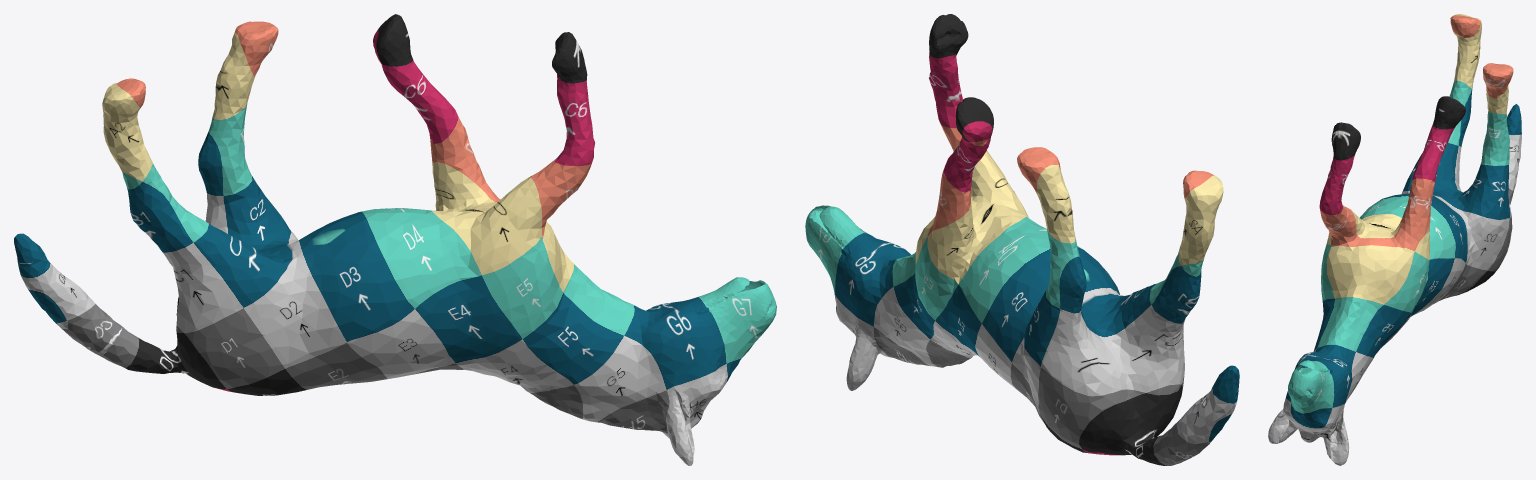
Rendered from horse_08-horse_01.obj.
3 renders of one model, left to right at view 1: azimuth 30°, elevation 25°; view 2: azimuth 150°, elevation 25°; view 3: azimuth 270°, elevation 25°, orthographic. The views are drawn at different scales.
Visible parts, largest first — view 1: horse_08-horse_01_export; view 2: horse_08-horse_01_export; view 3: horse_08-horse_01_export.
Part boxes in pixels (x1=…): horse_08-horse_01_export: x1=14, y1=14, x2=776, y2=465; horse_08-horse_01_export: x1=805, y1=14, x2=1239, y2=465; horse_08-horse_01_export: x1=1268, y1=14, x2=1521, y2=465.
Bounding box in the file's own units: 1.09 × 0.7289 × 0.5466.
